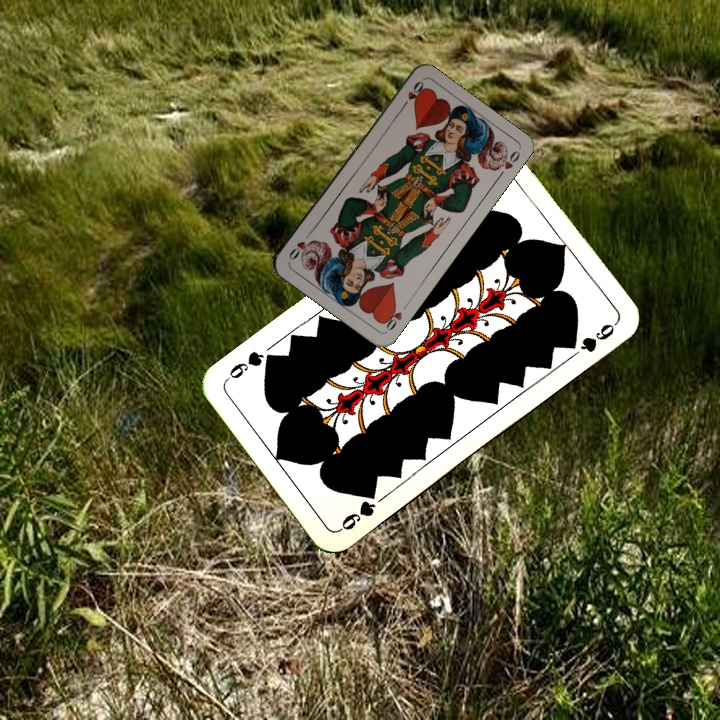G9: (335, 485, 379, 534)
HO: (379, 299, 411, 334), (397, 76, 427, 112)
